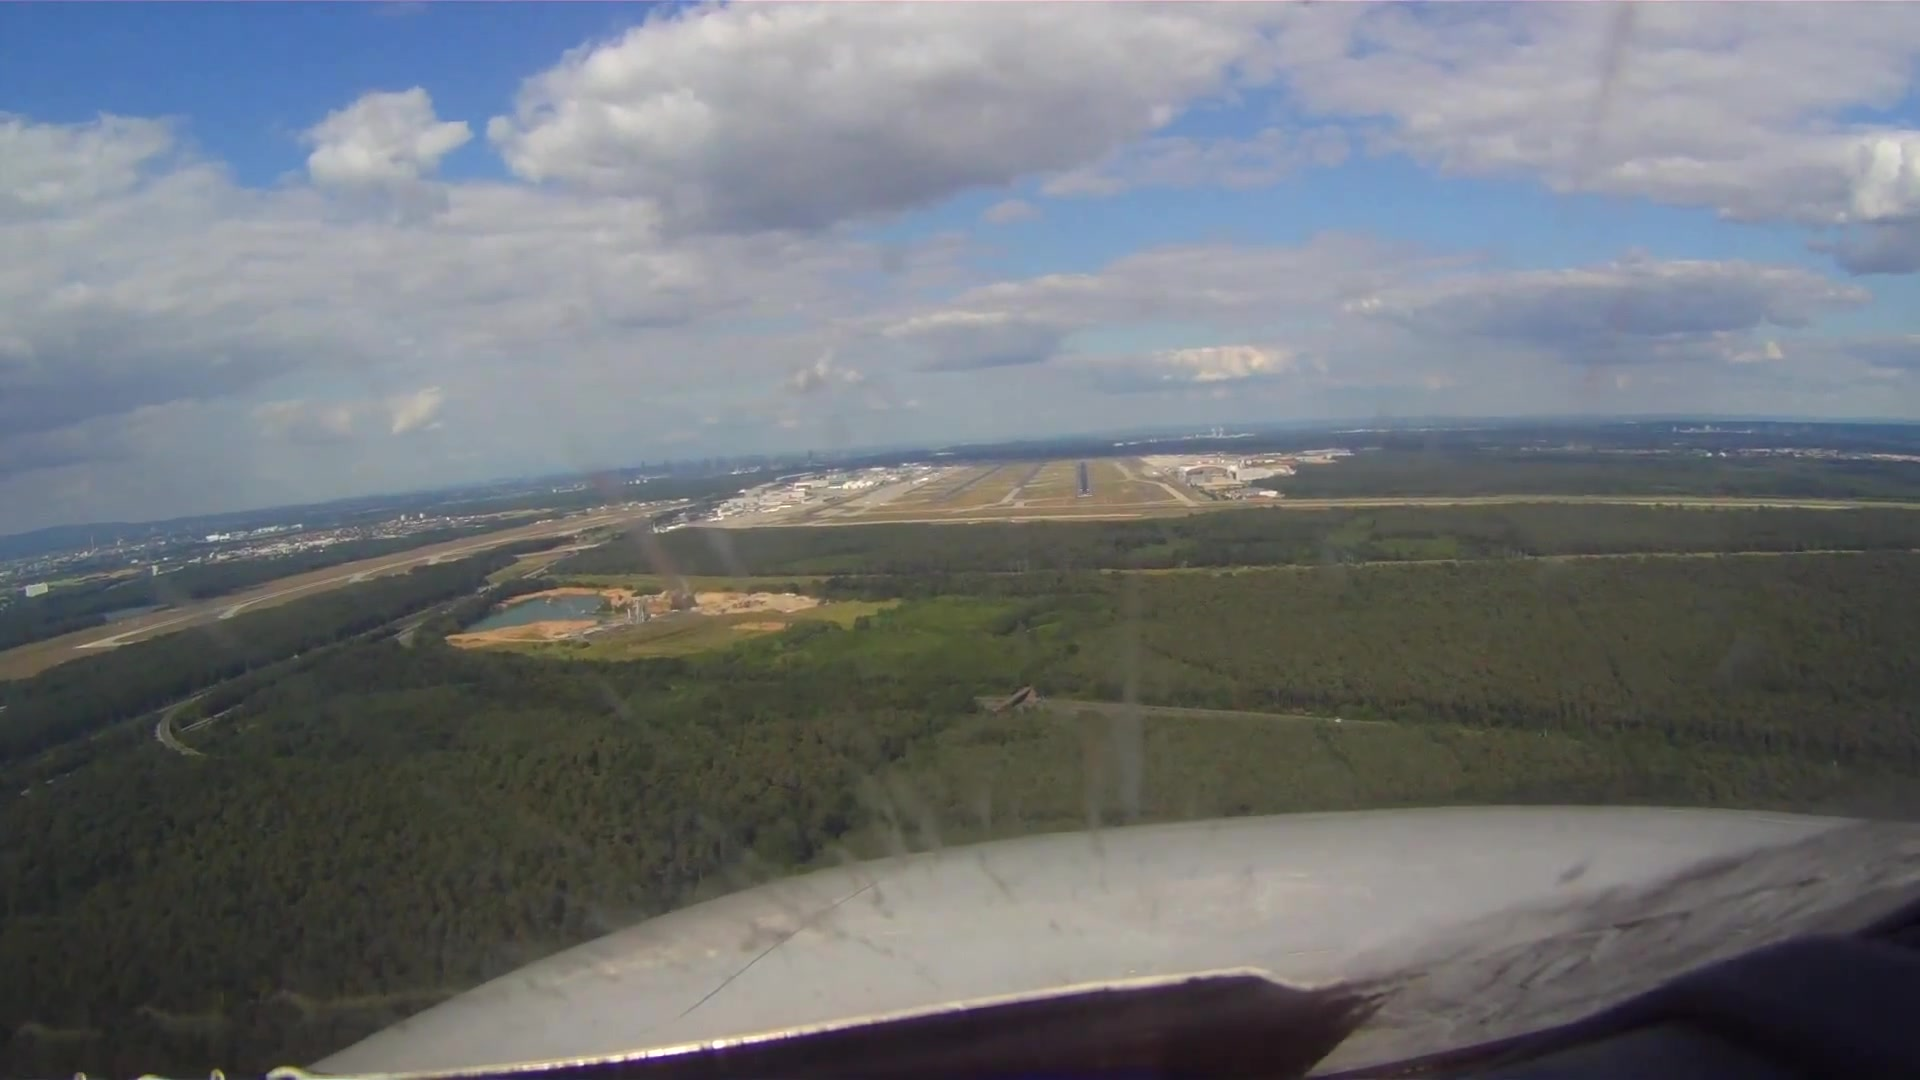runway: (1075, 458, 1095, 498)
